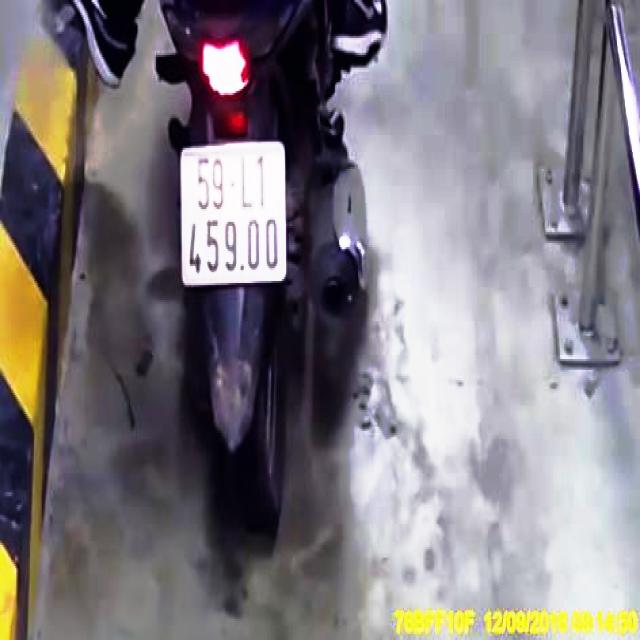license_plate: (180, 149, 288, 286)
